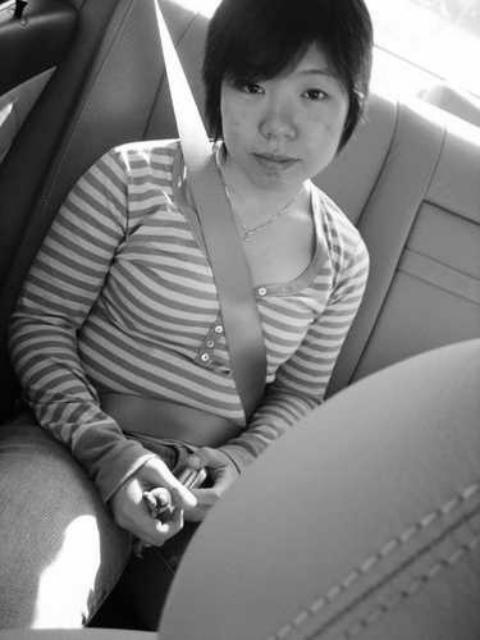SafeDriving: (292, 75, 338, 107), (226, 71, 274, 101)
Seatbelt: (102, 1, 270, 452)
